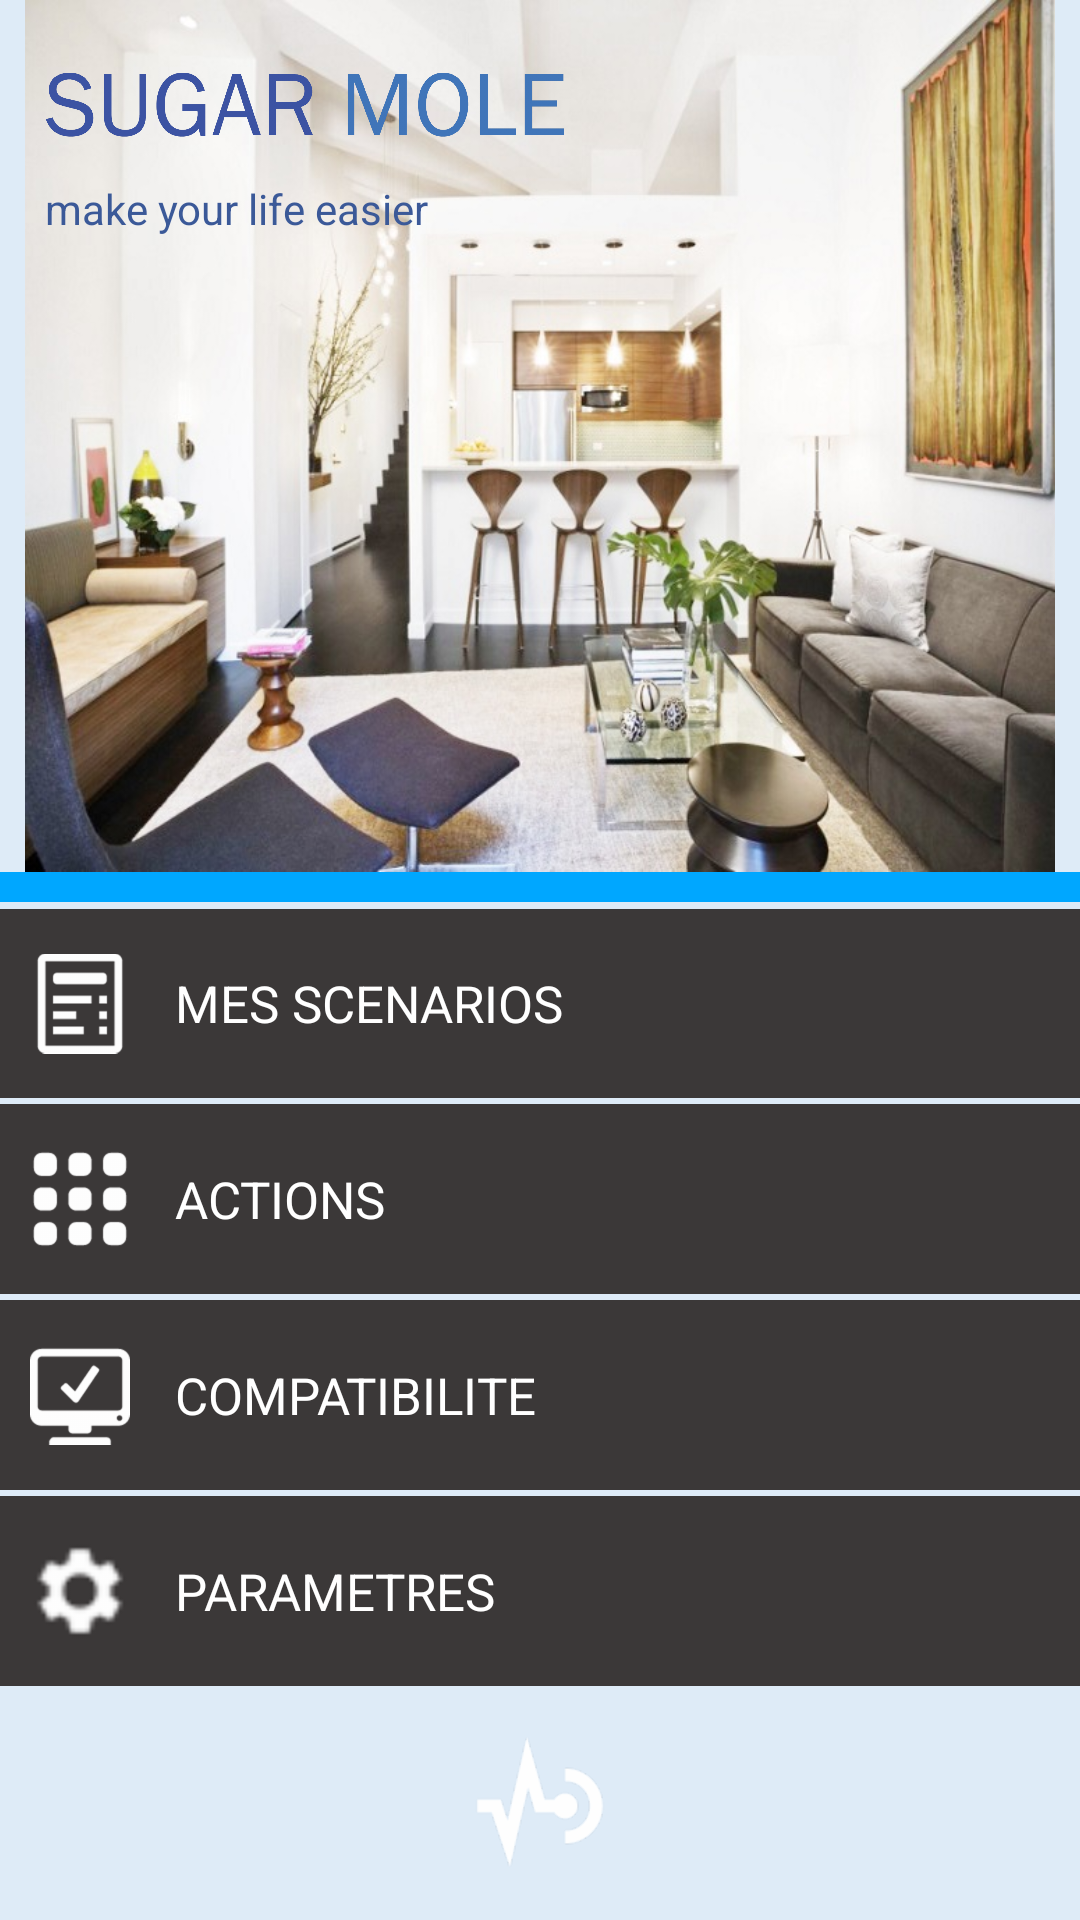

Where icons sit on this 1080 x 1920 app screen, as (x1, y1, x2, y2):
activity grid: (33, 1152, 127, 1246)
electrical sensor: (478, 1741, 602, 1863)
overview pages: (37, 954, 123, 1054)
settings: (37, 1548, 123, 1634)
system information: (30, 1348, 130, 1445)
